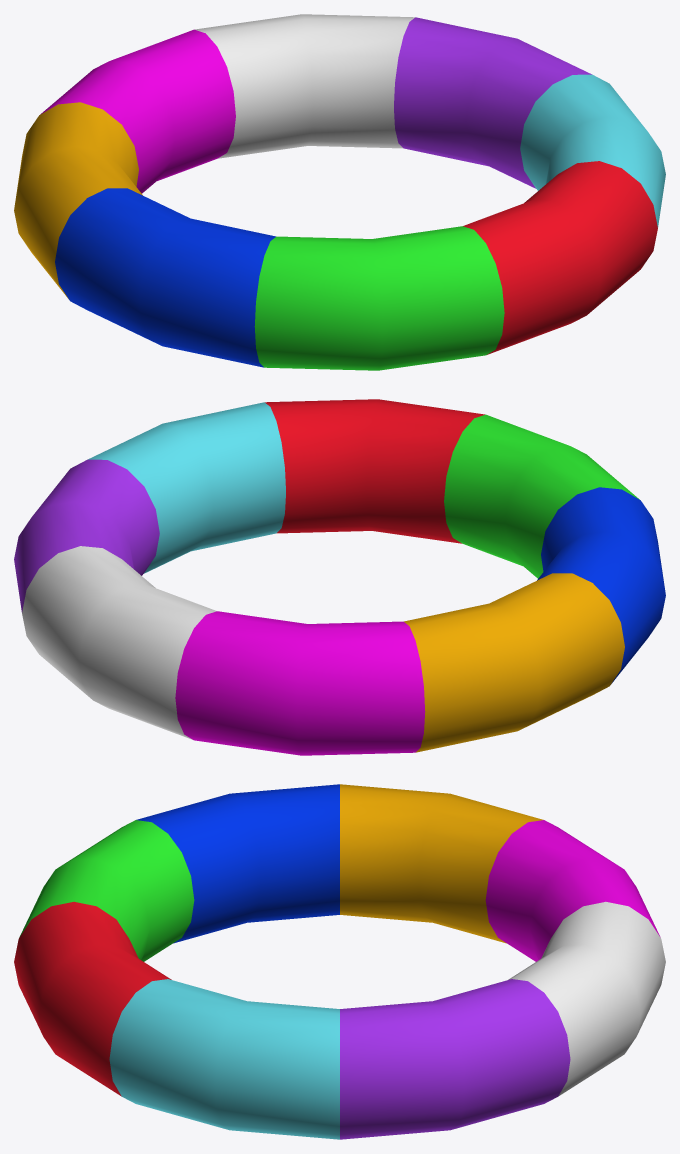
The model's file is Kids toy 1.fbx.
The picture shows the model from 3 angles, top to bottom: view 1: azimuth 30°, elevation 25°; view 2: azimuth 150°, elevation 25°; view 3: azimuth 270°, elevation 25°; orthographic projection.
Parts seen in each view (by area): view 1: Torus.003; view 2: Torus.003; view 3: Torus.003.
Part boxes in pixels (x1,y1,x2,y2): Torus.003: (14,14,665,370); Torus.003: (14,399,665,755); Torus.003: (14,784,665,1139).
Bounding box in the file's own units: 114 × 23.19 × 114.
